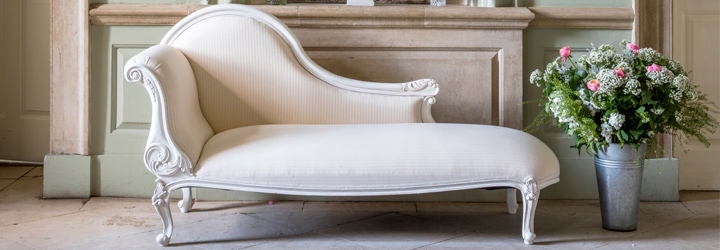chairs: (125, 3, 563, 248)
